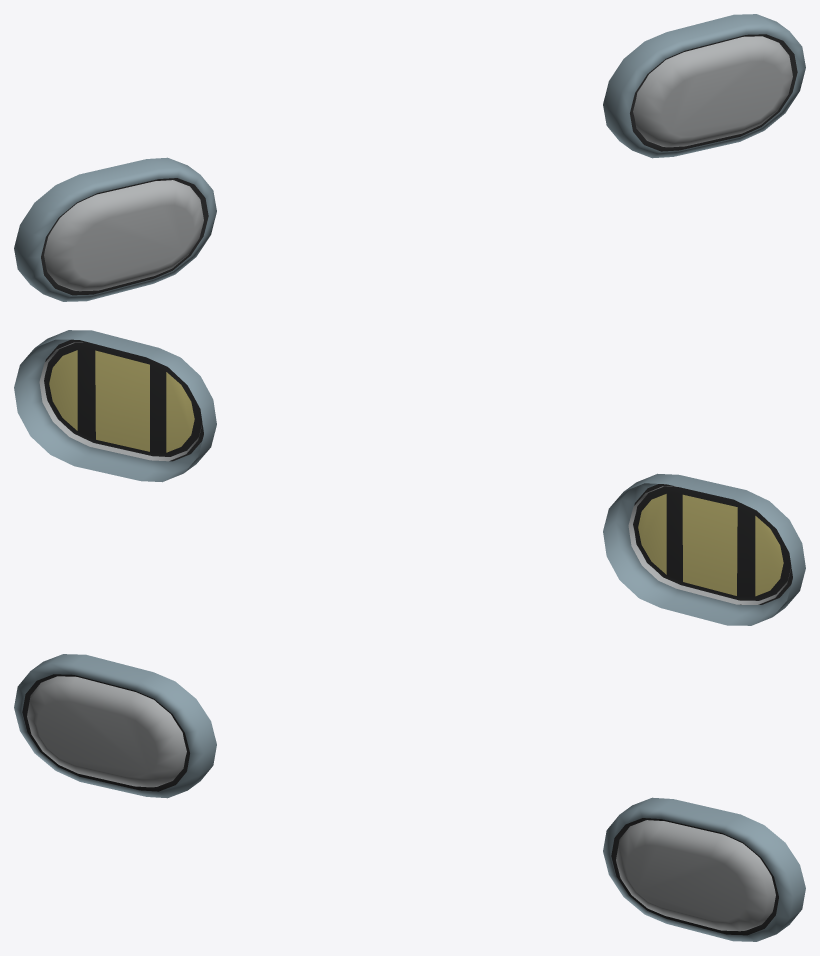
The model's file is Car_09_Headlight_Simple.fbx.
3 views of the same model, one above another, from view 1: azimuth 30°, elevation 25°; view 2: azimuth 150°, elevation 25°; view 3: azimuth 330°, elevation 25° (orthographic).
Parts seen in each view (by area): view 1: Car_09_Headlight_Simple; view 2: Car_09_Headlight_Simple; view 3: Car_09_Headlight_Simple.
Boxes of the visible parts, x1,y1,x2,y2 form: Car_09_Headlight_Simple: [14, 14, 805, 301]; Car_09_Headlight_Simple: [14, 330, 805, 625]; Car_09_Headlight_Simple: [14, 654, 805, 941].
Bounding box in the file's own units: 147 × 9.51 × 22.
